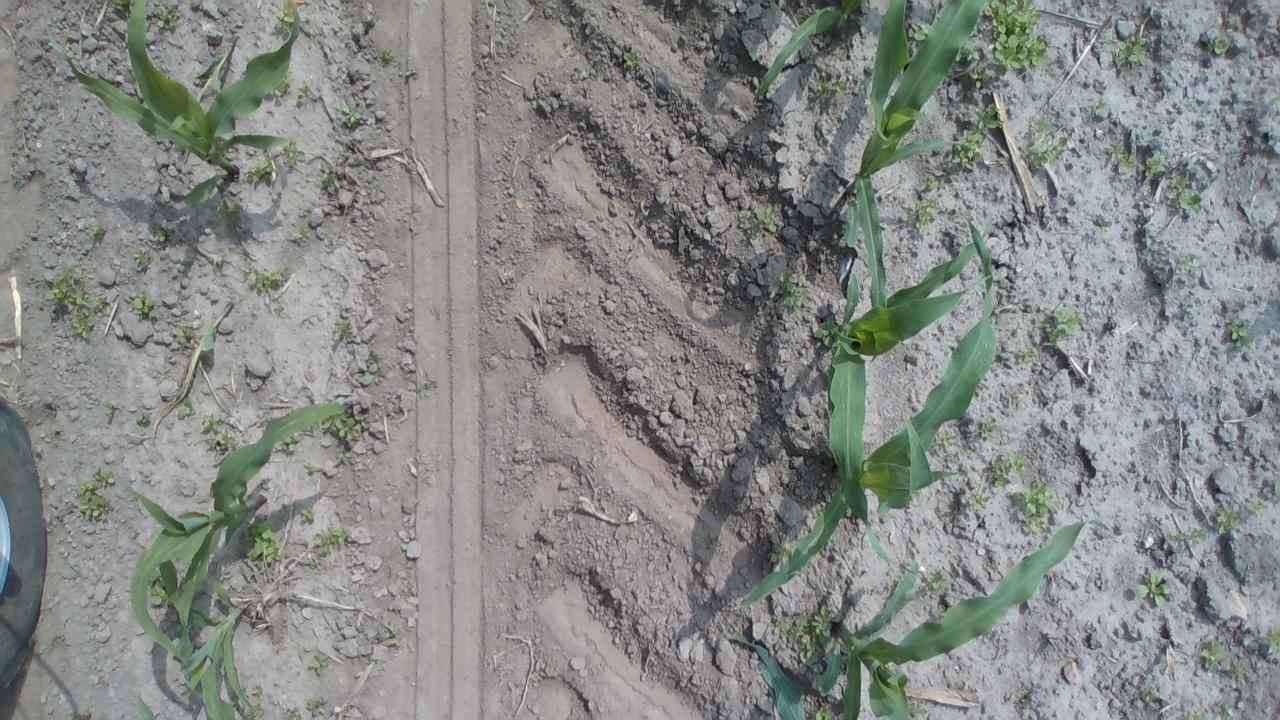Maize: (736, 219, 1000, 619), (726, 518, 1092, 718), (818, 214, 1006, 574), (126, 400, 362, 673), (826, 0, 1002, 324), (44, 0, 300, 211), (128, 578, 290, 720)
Weeds: (982, 0, 1054, 72), (47, 266, 110, 336), (949, 102, 1006, 170), (774, 604, 834, 660), (1017, 117, 1068, 168), (78, 463, 119, 524), (238, 514, 282, 568), (1008, 488, 1062, 530), (1161, 173, 1205, 220), (732, 202, 781, 244), (1132, 568, 1172, 610), (1100, 135, 1139, 178), (1110, 30, 1150, 70), (1043, 302, 1082, 342), (910, 174, 939, 227), (774, 272, 814, 310), (987, 449, 1026, 487), (242, 268, 294, 296), (201, 410, 232, 455), (321, 411, 362, 445), (172, 322, 218, 352), (1196, 638, 1236, 672), (145, 568, 177, 610), (919, 562, 950, 605), (812, 314, 848, 349), (1172, 526, 1210, 554), (937, 432, 973, 461), (312, 526, 349, 554), (275, 141, 309, 170), (126, 294, 161, 322), (1222, 316, 1250, 351), (216, 197, 245, 230), (245, 160, 277, 188), (1214, 507, 1243, 534), (304, 652, 334, 678), (768, 540, 793, 571), (954, 39, 986, 63), (1208, 31, 1233, 60), (152, 8, 184, 30), (910, 18, 934, 46), (811, 80, 848, 97), (332, 319, 358, 343), (320, 166, 344, 192), (266, 74, 292, 98), (1175, 252, 1200, 276), (277, 432, 303, 455), (1086, 96, 1108, 123), (306, 695, 330, 719), (363, 354, 382, 384), (969, 69, 993, 92), (974, 421, 1000, 442), (148, 224, 175, 244), (966, 494, 994, 513), (340, 105, 363, 128), (414, 379, 436, 403), (383, 404, 406, 426), (1019, 695, 1045, 714), (86, 222, 109, 243), (1263, 628, 1280, 655), (1088, 212, 1112, 231), (378, 48, 398, 70), (814, 700, 836, 720), (1146, 152, 1162, 179), (229, 688, 248, 710), (276, 8, 294, 31), (177, 396, 192, 422), (280, 704, 304, 720), (333, 449, 352, 469), (296, 504, 314, 525), (134, 246, 151, 268), (133, 410, 153, 428), (1020, 346, 1042, 362), (621, 50, 640, 68), (245, 704, 267, 719), (296, 82, 314, 100), (302, 462, 322, 478), (1214, 706, 1236, 720), (1186, 706, 1208, 720), (1251, 495, 1266, 515), (102, 402, 120, 417), (1142, 686, 1158, 702), (290, 226, 307, 241), (411, 198, 423, 218), (308, 554, 323, 570), (250, 684, 266, 698), (1234, 664, 1244, 678)
